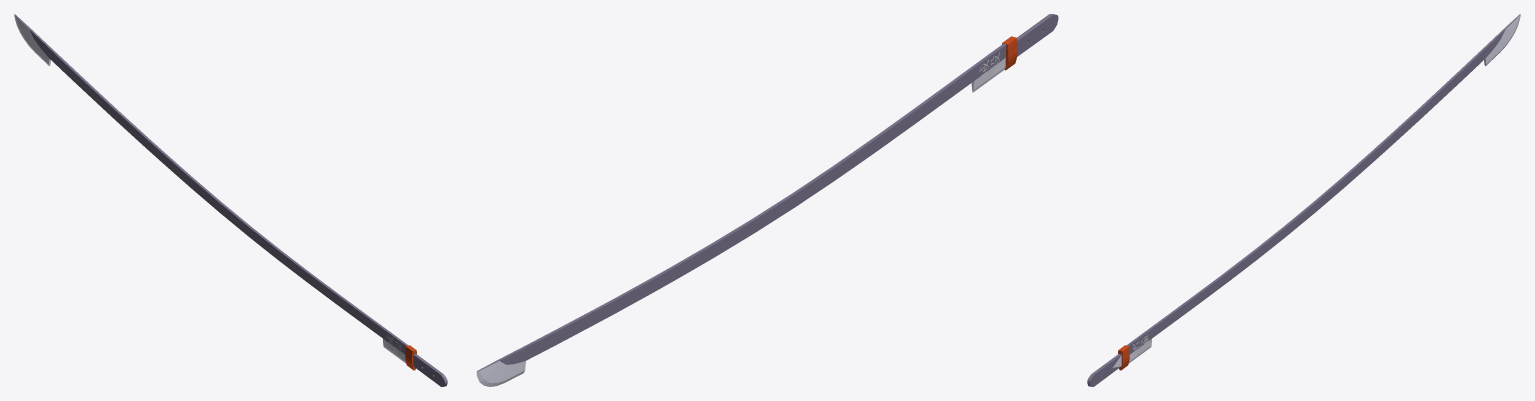
File: blade_insect.glb
3 views of the same model, side by side, from view 1: azimuth 30°, elevation 25°; view 2: azimuth 150°, elevation 25°; view 3: azimuth 330°, elevation 25° (orthographic). The views are drawn at different scales.
Visible parts, largest first — view 1: Blade; view 2: Blade; view 3: Blade.
Part boxes in pixels (left/top/right/bottom): Blade: left=14, top=14, right=447, bottom=386; Blade: left=476, top=14, right=1058, bottom=386; Blade: left=1087, top=14, right=1520, bottom=386.
Size of the model in its own units: 0.0197 by 0.2232 by 2.75.
